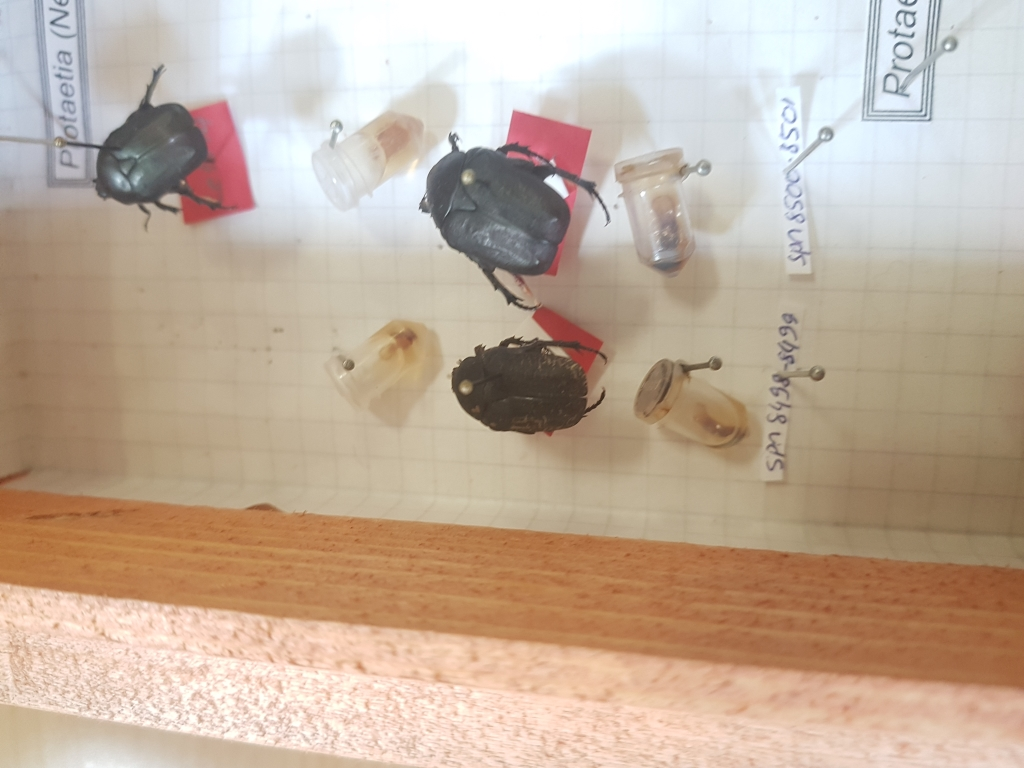Protaetia_vidua: (420, 122, 622, 308), (81, 51, 243, 245), (444, 328, 635, 438)
